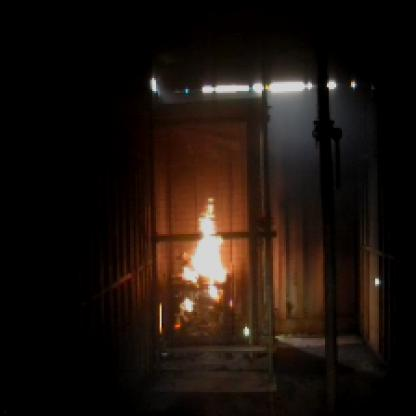Fire: (176, 197, 226, 321)
